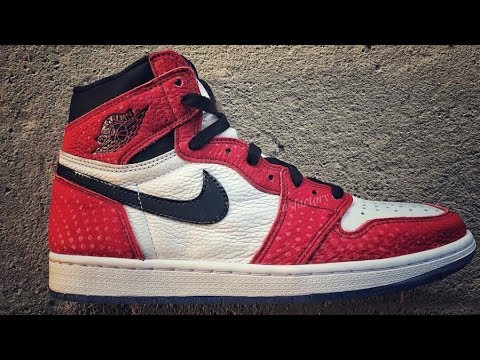Air Jordan 1 Spiderman: (30, 51, 478, 303)
